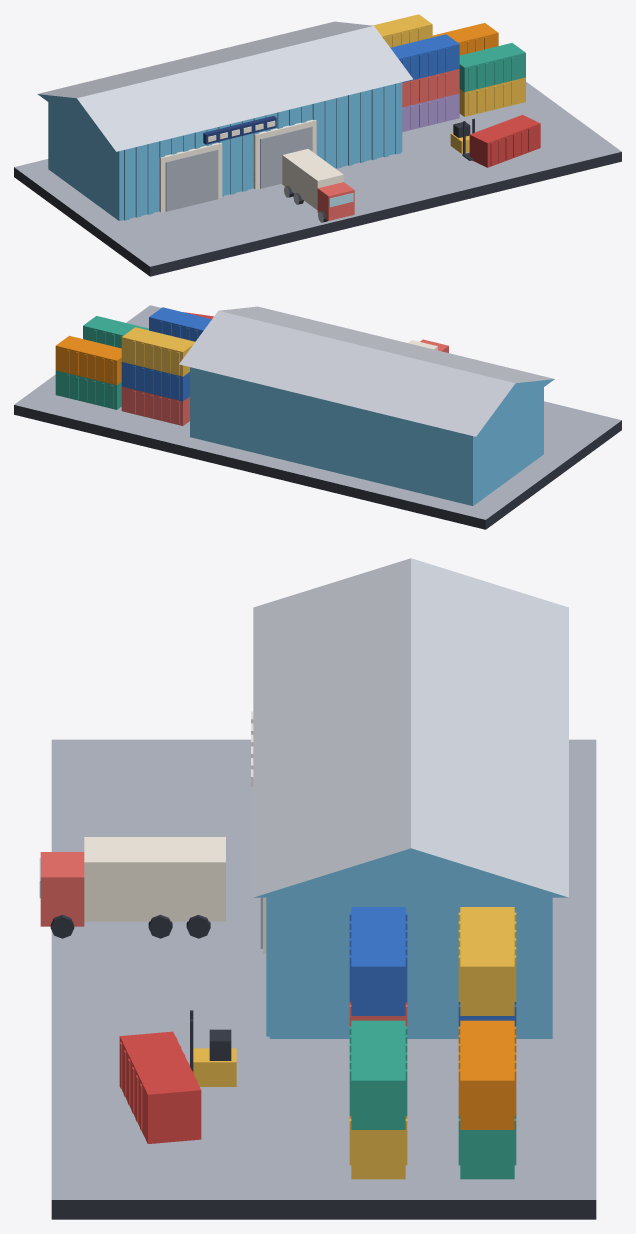
The model's file is industry_warehouse.glb.
3 renders of one model, top to bottom at view 1: azimuth 30°, elevation 25°; view 2: azimuth 150°, elevation 25°; view 3: azimuth 270°, elevation 25°, orthographic. The views are drawn at different scales.
Parts seen in each view (by area): view 1: industry_warehouse; view 2: industry_warehouse; view 3: industry_warehouse.
Part boxes in pixels (x1,y1,x2,y2): industry_warehouse: [14, 14, 621, 276]; industry_warehouse: [14, 305, 621, 529]; industry_warehouse: [39, 558, 596, 1219].
Bounding box in the file's own units: 2 × 0.44 × 1.02.
